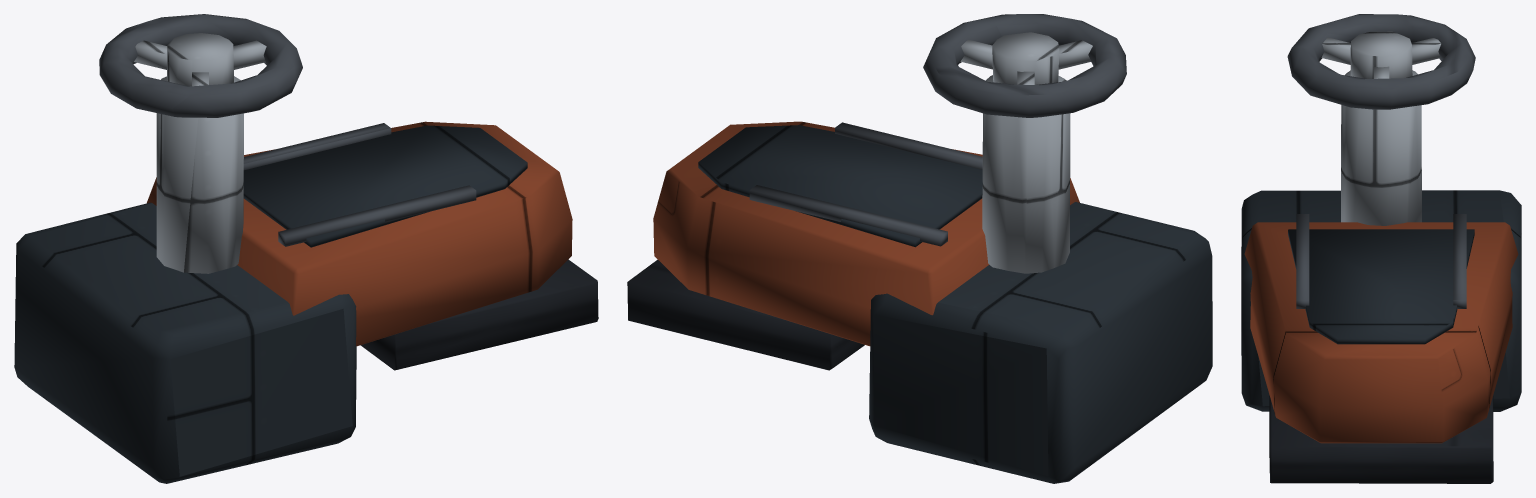
The model's file is ops_clamp_shoe_lod2.glb.
3 renders of one model, left to right at view 1: azimuth 30°, elevation 25°; view 2: azimuth 150°, elevation 25°; view 3: azimuth 270°, elevation 25°, orthographic. The views are drawn at different scales.
Parts seen in each view (by area): view 1: LOD2_Armor, LOD2_Hull, LOD2_MOTION_CLAMP_SCREW_BrushedMetal, LOD2_MOTION_CLAMP_SCREW_Mechanical, LOD2_MechanicalDark, LOD2_Mechanical; view 2: LOD2_Armor, LOD2_Hull, LOD2_MOTION_CLAMP_SCREW_BrushedMetal, LOD2_MOTION_CLAMP_SCREW_Mechanical, LOD2_MechanicalDark, LOD2_Mechanical; view 3: LOD2_Hull, LOD2_Armor, LOD2_MOTION_CLAMP_SCREW_BrushedMetal, LOD2_MechanicalDark, LOD2_MOTION_CLAMP_SCREW_Mechanical, LOD2_Mechanical.
Part boxes in pixels (left/top/right/bottom): LOD2_Armor: left=14, top=125, right=527, bottom=483; LOD2_Hull: left=147, top=121, right=572, bottom=346; LOD2_MOTION_CLAMP_SCREW_BrushedMetal: left=134, top=33, right=266, bottom=273; LOD2_MOTION_CLAMP_SCREW_Mechanical: left=99, top=14, right=302, bottom=117; LOD2_MechanicalDark: left=360, top=259, right=598, bottom=370; LOD2_Mechanical: left=243, top=123, right=476, bottom=246; LOD2_Armor: left=698, top=125, right=1212, bottom=483; LOD2_Hull: left=653, top=121, right=1079, bottom=346; LOD2_MOTION_CLAMP_SCREW_BrushedMetal: left=960, top=32, right=1092, bottom=273; LOD2_MOTION_CLAMP_SCREW_Mechanical: left=923, top=14, right=1126, bottom=117; LOD2_MechanicalDark: left=627, top=259, right=864, bottom=370; LOD2_Mechanical: left=749, top=122, right=982, bottom=246; LOD2_Hull: left=1244, top=222, right=1518, bottom=443; LOD2_Armor: left=1241, top=190, right=1521, bottom=411; LOD2_MOTION_CLAMP_SCREW_BrushedMetal: left=1321, top=31, right=1441, bottom=225; LOD2_MechanicalDark: left=1269, top=395, right=1493, bottom=483; LOD2_MOTION_CLAMP_SCREW_Mechanical: left=1287, top=14, right=1475, bottom=109; LOD2_Mechanical: left=1296, top=214, right=1466, bottom=308.
Size of the model in its own units: 1.54 by 1.17 by 0.8925.
Materials: 5 (5 with a texture image).
